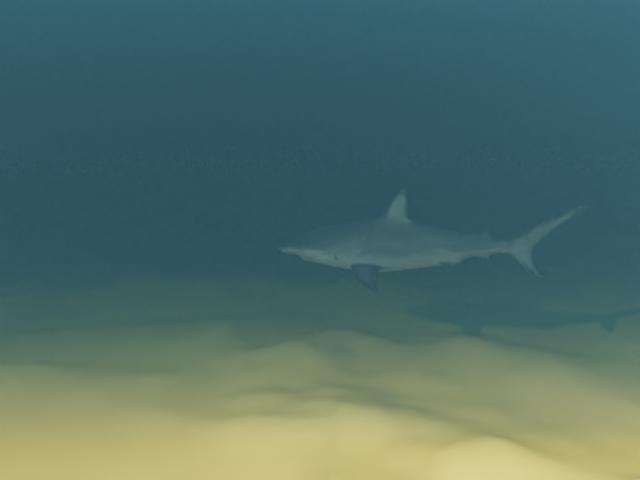Carribean Shark.001: (278, 188, 587, 291)
